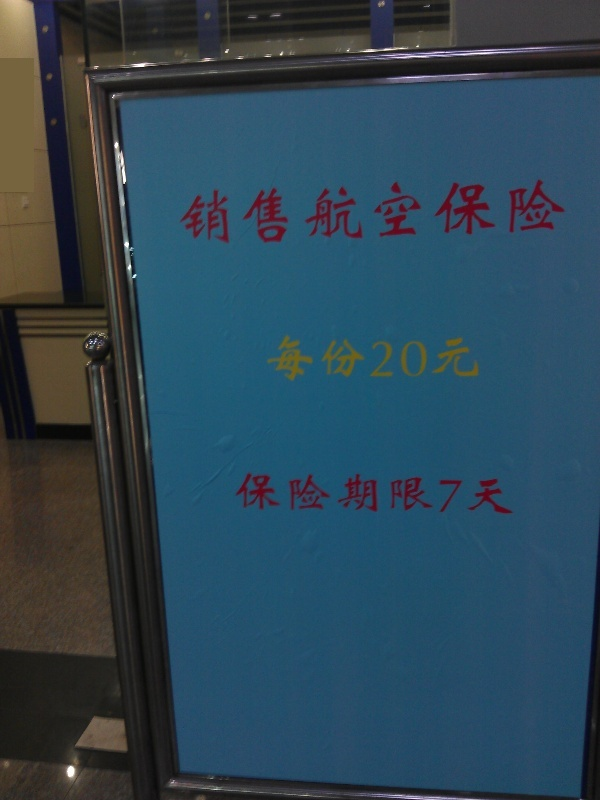text: (177, 178, 192, 247), (193, 178, 208, 247), (209, 178, 224, 247), (225, 178, 240, 247), (241, 178, 256, 247), (257, 178, 272, 247), (273, 178, 288, 247), (289, 178, 304, 247), (305, 178, 320, 247), (321, 178, 336, 247), (337, 178, 352, 247), (353, 178, 368, 247), (369, 178, 384, 247), (385, 178, 400, 247), (401, 178, 416, 247), (417, 178, 432, 247), (433, 178, 448, 247), (449, 178, 464, 247), (465, 178, 480, 247), (481, 178, 496, 247), (497, 178, 512, 247), (513, 178, 528, 247), (529, 178, 544, 247), (545, 178, 560, 247), (241, 463, 256, 525), (257, 463, 272, 525), (273, 463, 288, 525), (289, 463, 304, 525), (305, 463, 320, 525), (321, 463, 336, 525), (337, 463, 352, 525), (353, 463, 368, 525), (369, 463, 384, 525), (385, 463, 400, 525), (401, 463, 416, 525), (417, 463, 432, 525), (433, 463, 448, 525), (449, 463, 464, 525), (465, 463, 480, 525), (481, 463, 496, 525), (497, 463, 512, 525), (273, 330, 288, 387), (289, 330, 304, 387), (305, 330, 320, 387), (321, 330, 336, 387), (337, 330, 352, 387), (353, 330, 368, 387), (369, 330, 384, 387), (385, 330, 400, 387), (401, 330, 416, 387), (417, 330, 432, 387), (433, 330, 448, 387), (449, 330, 464, 387), (465, 330, 480, 387), (263, 330, 272, 387), (561, 178, 568, 247), (233, 463, 240, 525), (513, 463, 517, 525), (481, 330, 482, 387)
